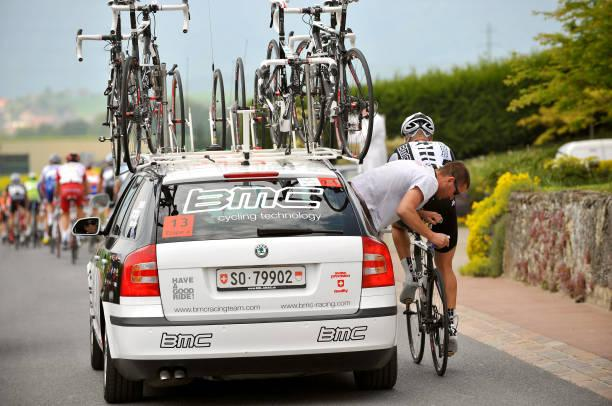skoda: (249, 243, 276, 260)
